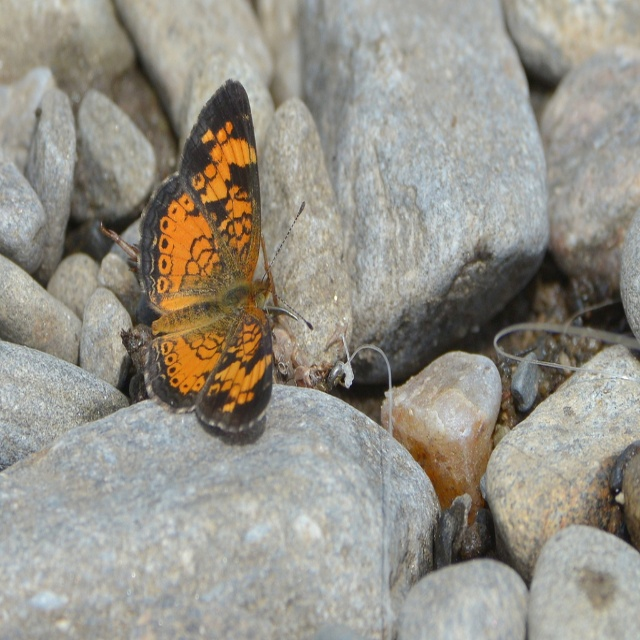Butterfly: (121, 76, 310, 433)
